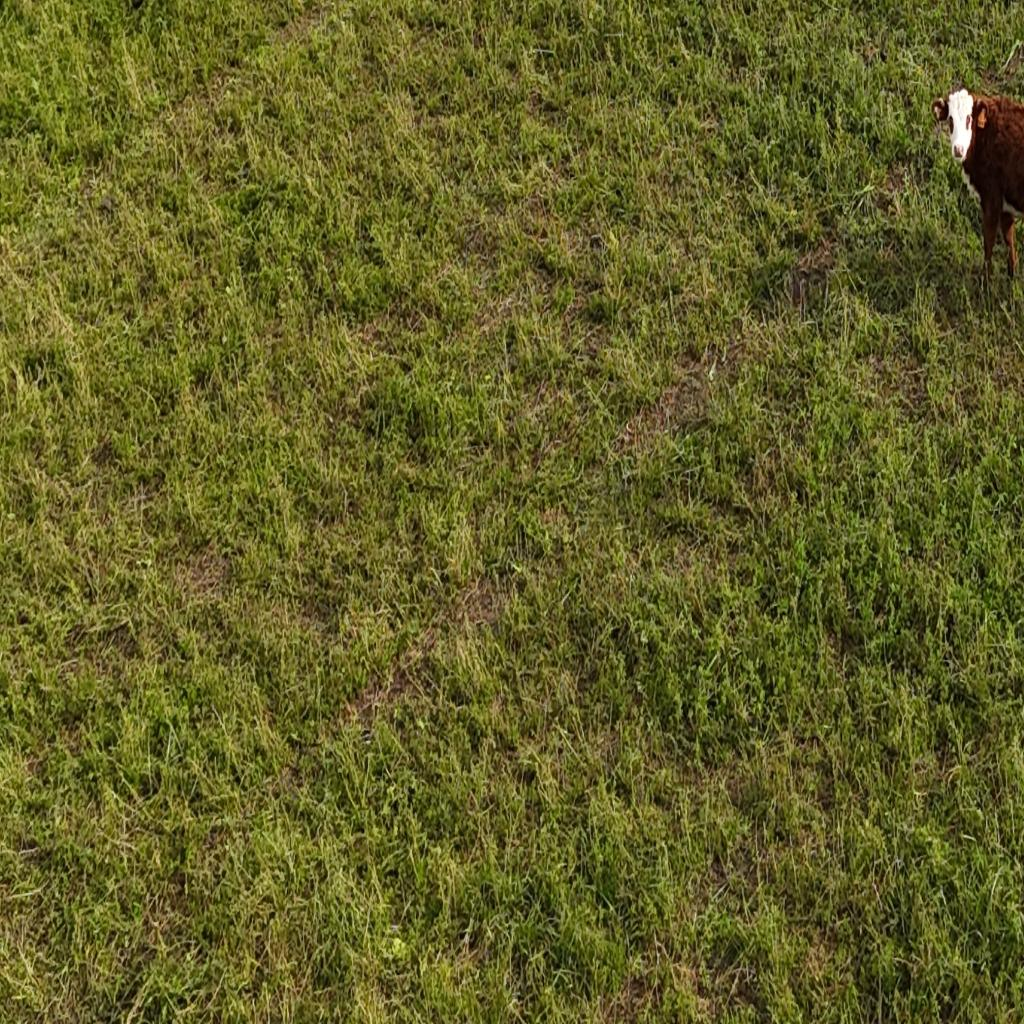cow: (928, 77, 1024, 303)
